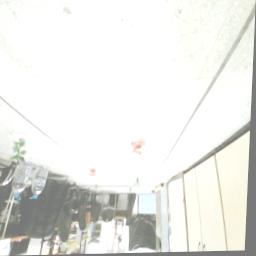herb: (11, 133, 32, 170), (137, 178, 143, 190)
wild: (128, 140, 151, 160), (90, 170, 101, 179)
